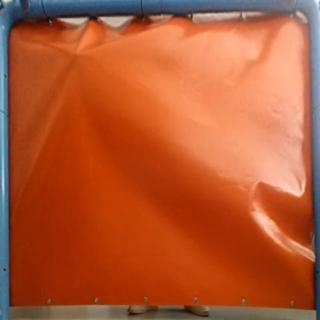Hit-hRxx: (66, 46, 85, 60)
